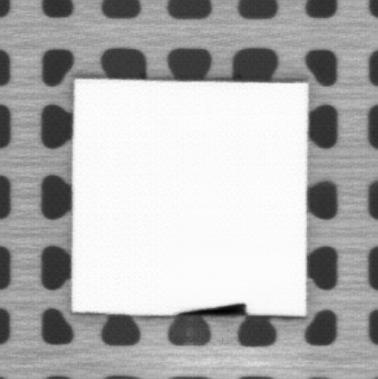DIE_BROKEN: (174, 301, 250, 316)
